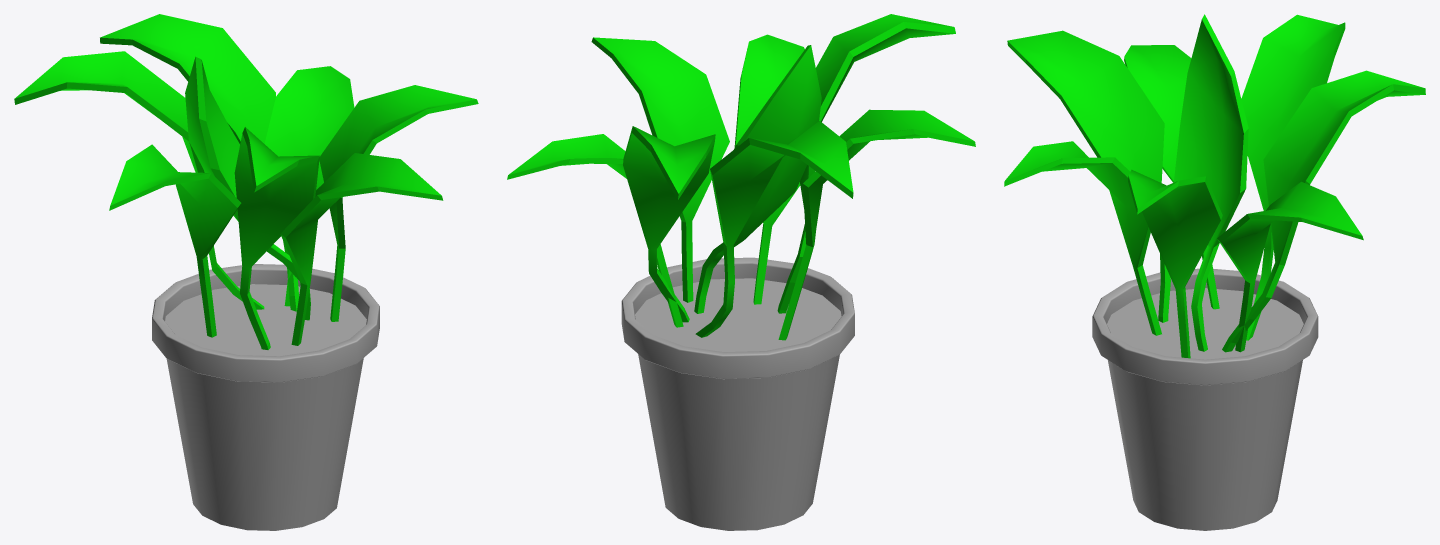
Rendered from pot_plant_3.fbx.
3 views of the same model, side by side, from view 1: azimuth 30°, elevation 25°; view 2: azimuth 150°, elevation 25°; view 3: azimuth 270°, elevation 25° (orthographic). The views are drawn at different scales.
Parts seen in each view (by area): view 1: pot_plant3; view 2: pot_plant3; view 3: pot_plant3.
Part boxes in pixels (box(x1,y1,x2,y2)): pot_plant3: box(14, 14, 478, 530); pot_plant3: box(507, 14, 975, 530); pot_plant3: box(1004, 14, 1425, 530).
Bounding box in the file's own units: 103 × 122 × 103.
